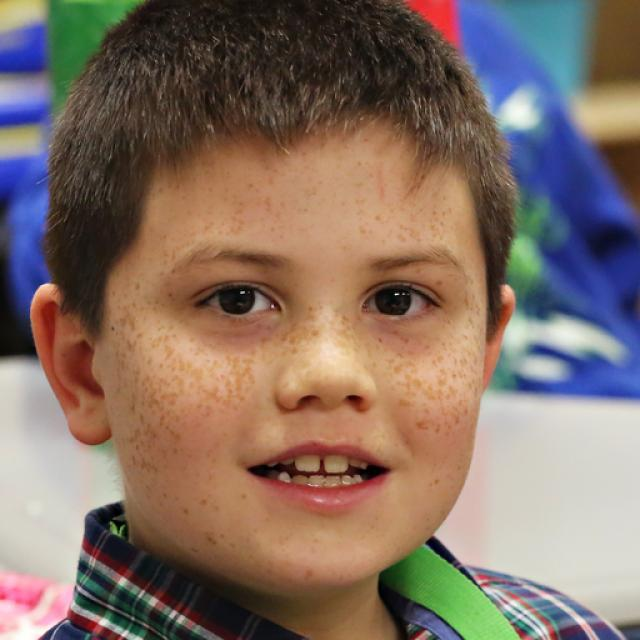happy: (109, 110, 488, 591)
